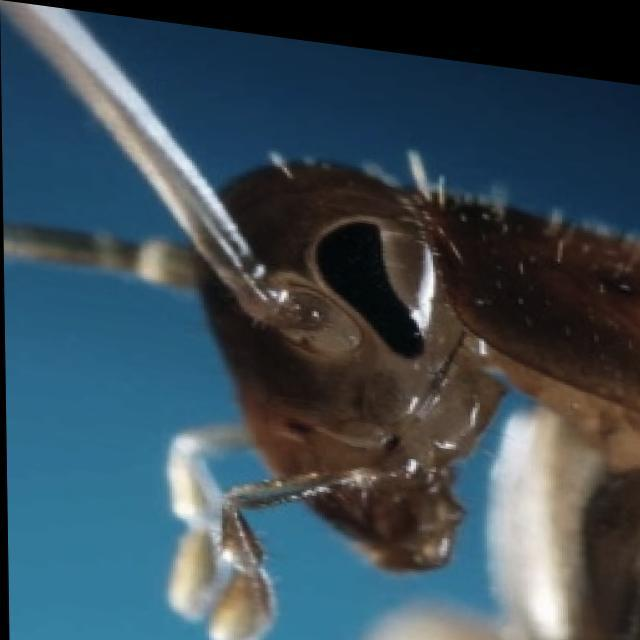cockroach: (68, 60, 640, 617)
